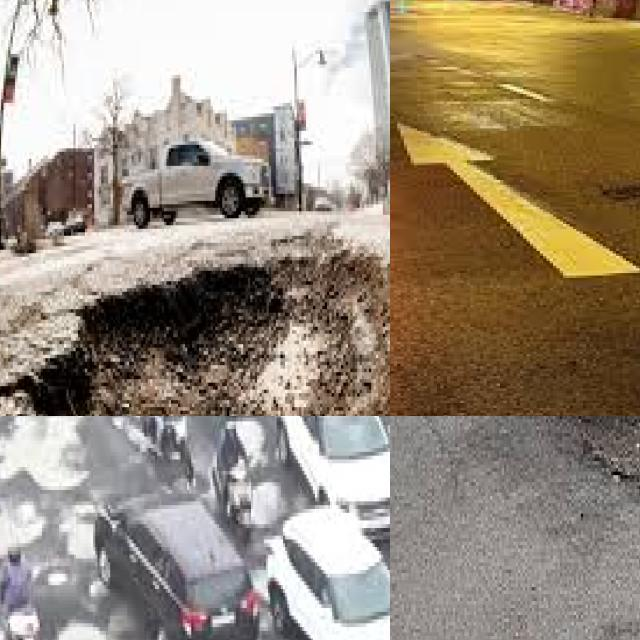Pothole: (0, 250, 390, 416), (0, 416, 85, 490), (0, 513, 42, 555), (602, 181, 640, 207)
